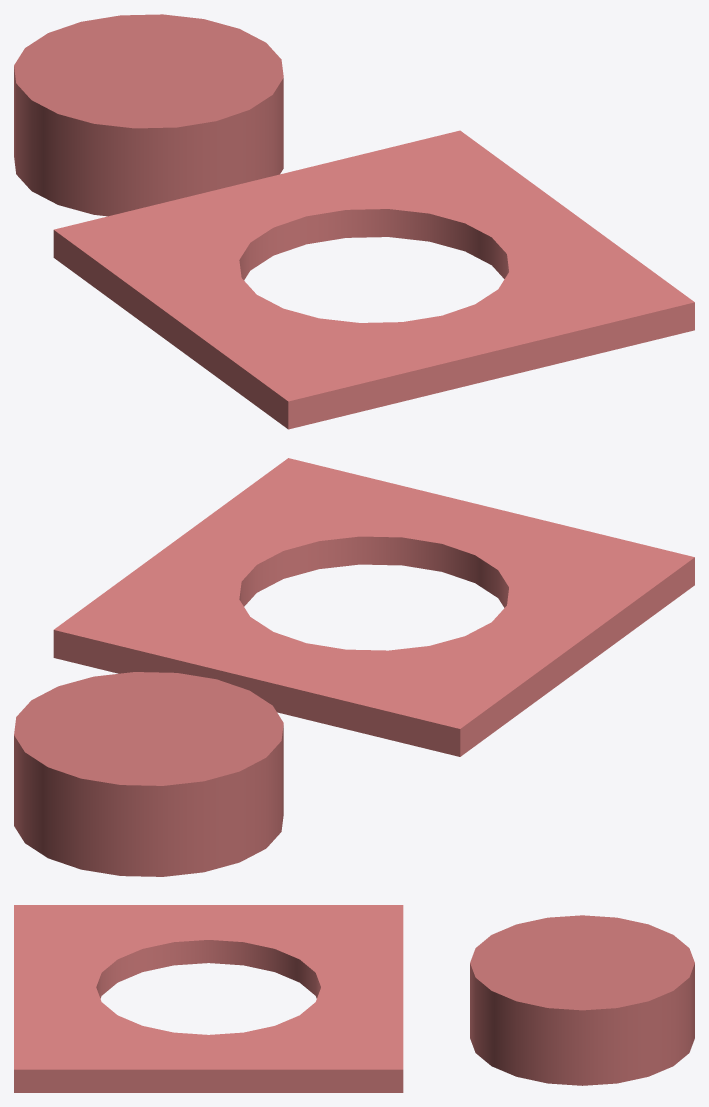
3 views of the same model, one above another, from view 1: azimuth 30°, elevation 25°; view 2: azimuth 150°, elevation 25°; view 3: azimuth 270°, elevation 25° (orthographic). The views are drawn at different scales.
Parts seen in each view (by area): view 1: polySurface1, pCylinder2; view 2: polySurface1, pCylinder2; view 3: polySurface1, pCylinder2.
Part boxes in pixels (x1,y1,x2,y2): polySurface1: [53, 130, 694, 429]; pCylinder2: [14, 14, 283, 216]; polySurface1: [53, 458, 694, 756]; pCylinder2: [14, 672, 283, 876]; polySurface1: [14, 905, 403, 1092]; pCylinder2: [470, 915, 694, 1085].
Bounding box in the file's own units: 0.0282 × 0.00604 × 0.0494.
